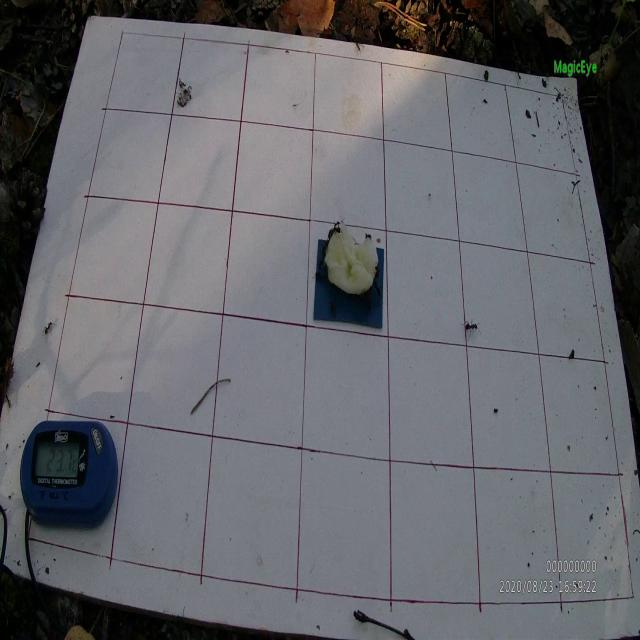Ant: (461, 320, 481, 341), (372, 279, 384, 307), (42, 321, 57, 343), (333, 225, 344, 242), (4, 394, 13, 408)
